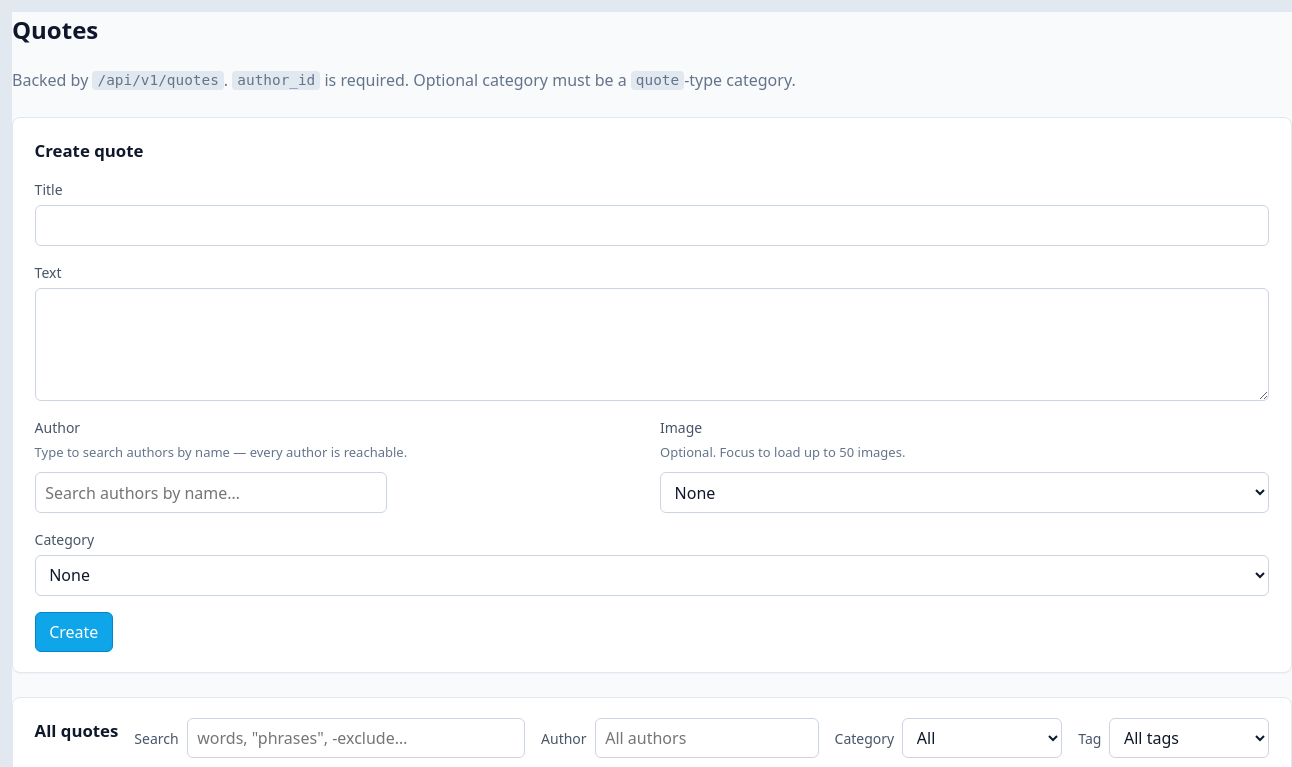
Test: QuotesPage › create form › blocks submit when title is empty
Click the button "Create".
click(74, 632)  # box [35, 612, 113, 652]
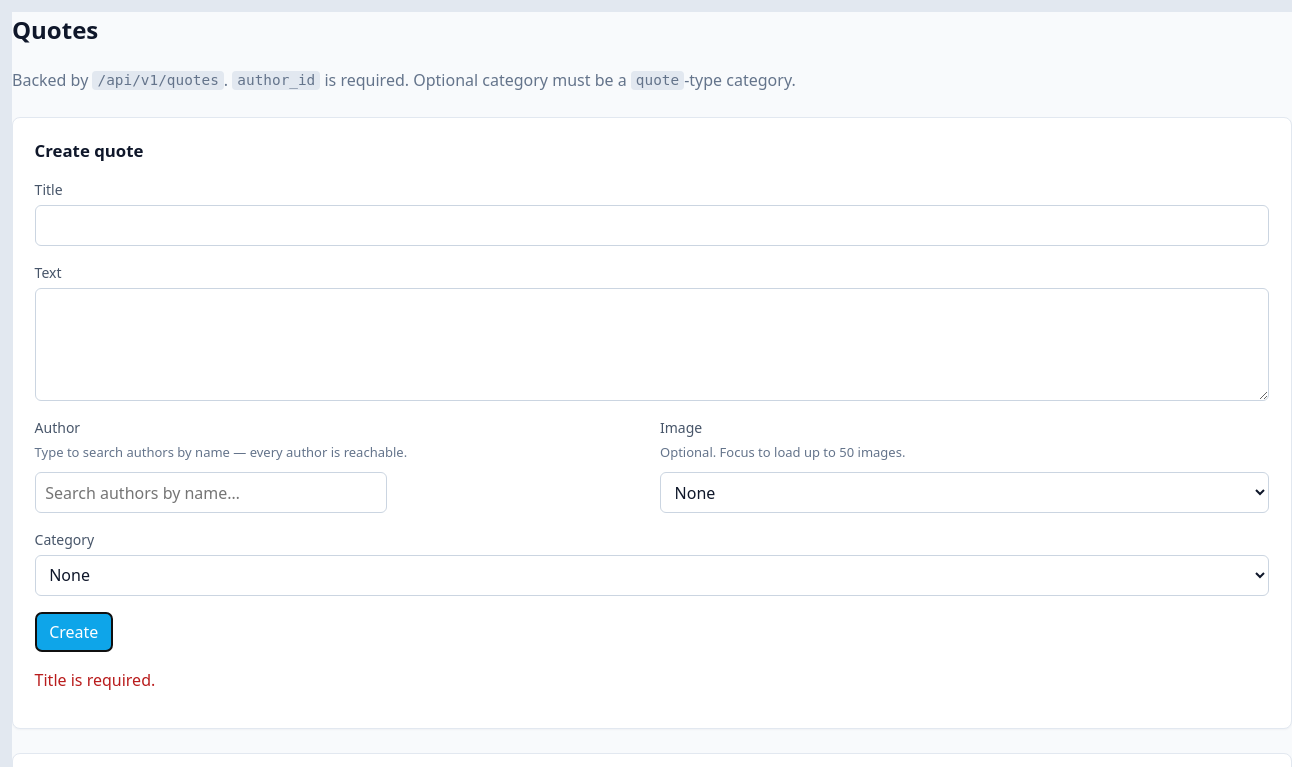
Expected: the text "Title is required." is shown, [35, 669, 155, 691]
